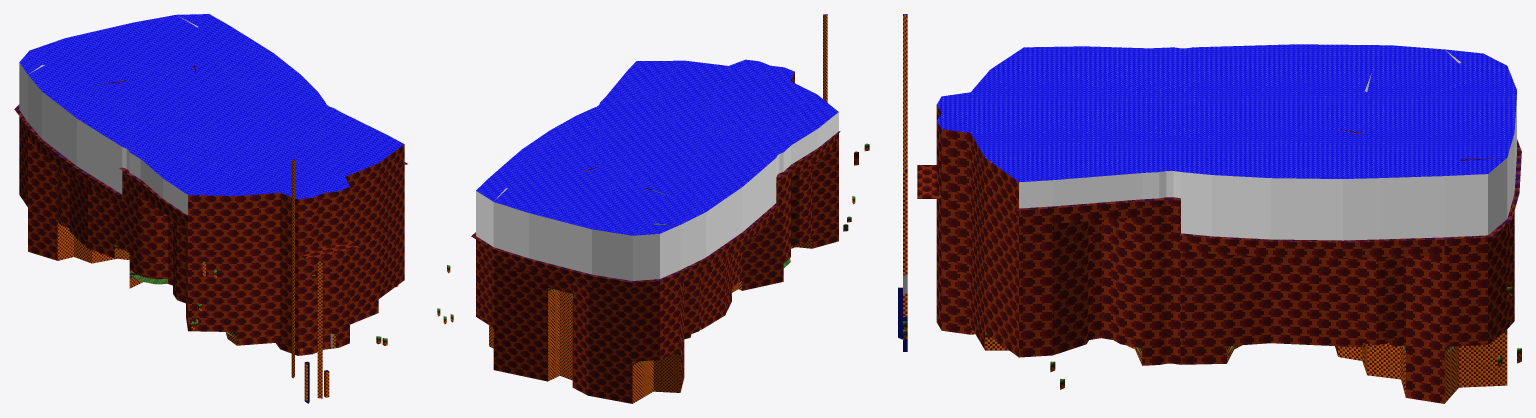
Rendered from MAPM7_SapphireFalls.obj.
The picture shows the model from 3 angles, left to right: view 1: azimuth 30°, elevation 25°; view 2: azimuth 150°, elevation 25°; view 3: azimuth 270°, elevation 25°; orthographic projection. The views are drawn at different scales.
Parts seen in each view (by area): view 1: MAPM7; view 2: MAPM7; view 3: MAPM7.
Part boxes in pixels (<box>): MAPM7: <box>14,14,407,403</box>; MAPM7: <box>437,14,869,403</box>; MAPM7: <box>898,14,1521,403</box>.
Size of the model in its own units: 4704 by 4608 by 8256.
